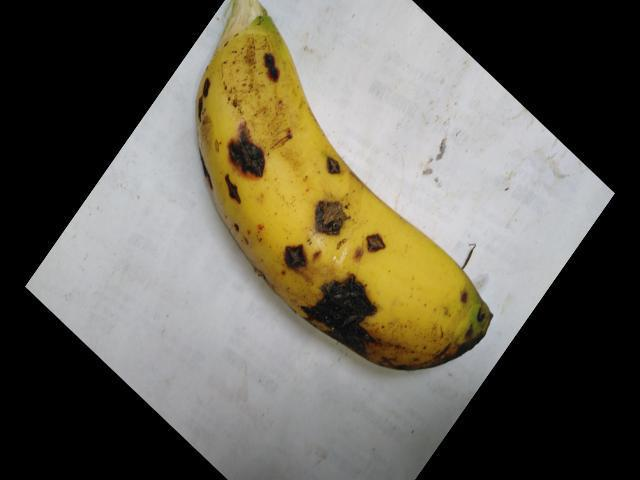rotten: (176, 65, 274, 205), (299, 274, 399, 371), (297, 143, 363, 241), (267, 231, 318, 276), (350, 222, 390, 266)
